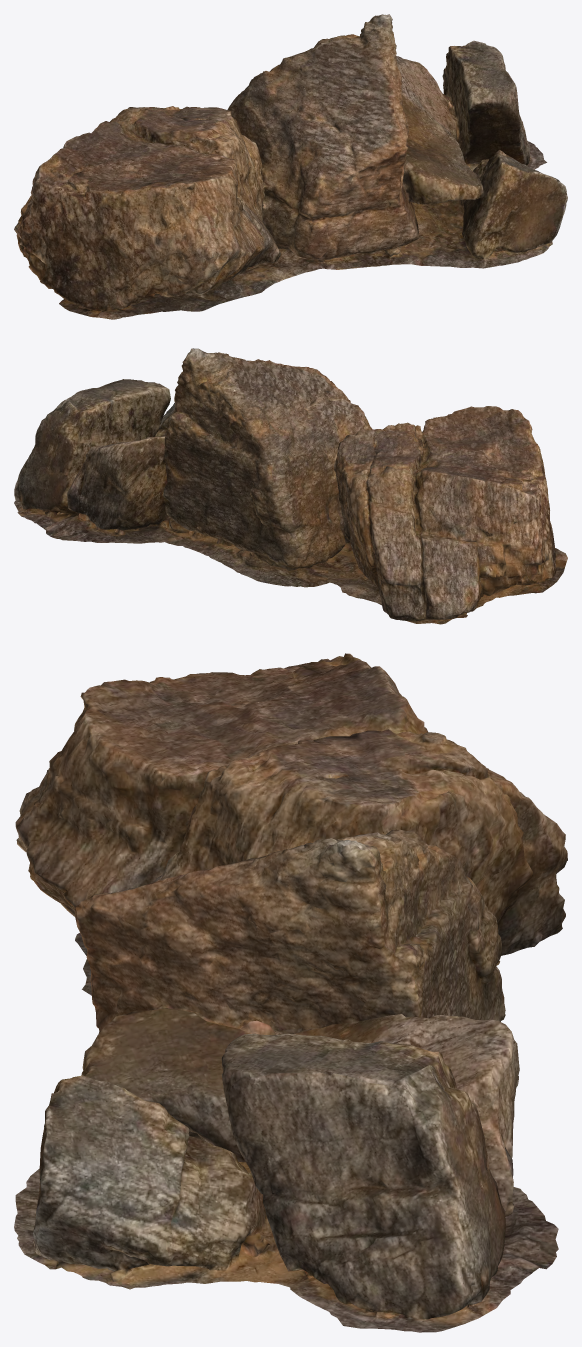
File: namaqualand-boulder-02.glb
3 views of the same model, one above another, from view 1: azimuth 30°, elevation 25°; view 2: azimuth 150°, elevation 25°; view 3: azimuth 270°, elevation 25° (orthographic). The views are drawn at different scales.
Visible parts, largest first — view 1: boulder_02; view 2: boulder_02; view 3: boulder_02.
Boxes of the visible parts, x1,y1,x2,y2 form: boulder_02: (14, 14, 567, 319); boulder_02: (14, 348, 567, 624); boulder_02: (14, 653, 567, 1332).
Bounding box in the file's own units: 2.53 × 0.8826 × 1.23.
1 material, 1 textured.
